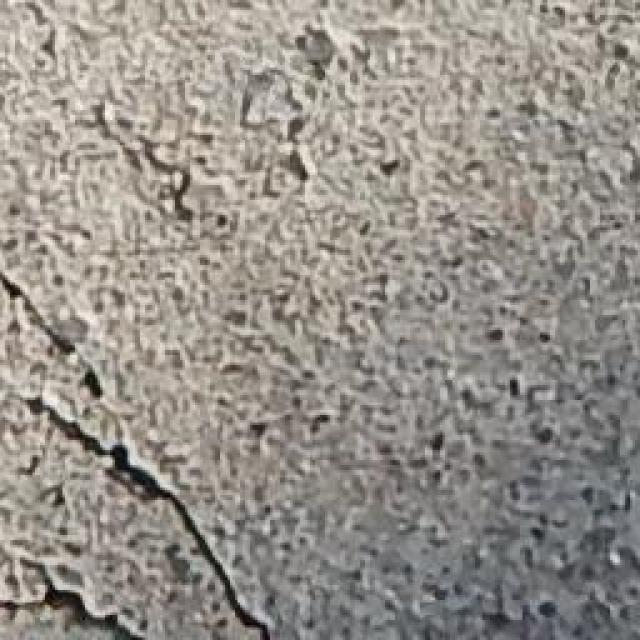concrete-crack: (24, 396, 282, 640), (0, 280, 109, 406), (4, 550, 143, 640)
